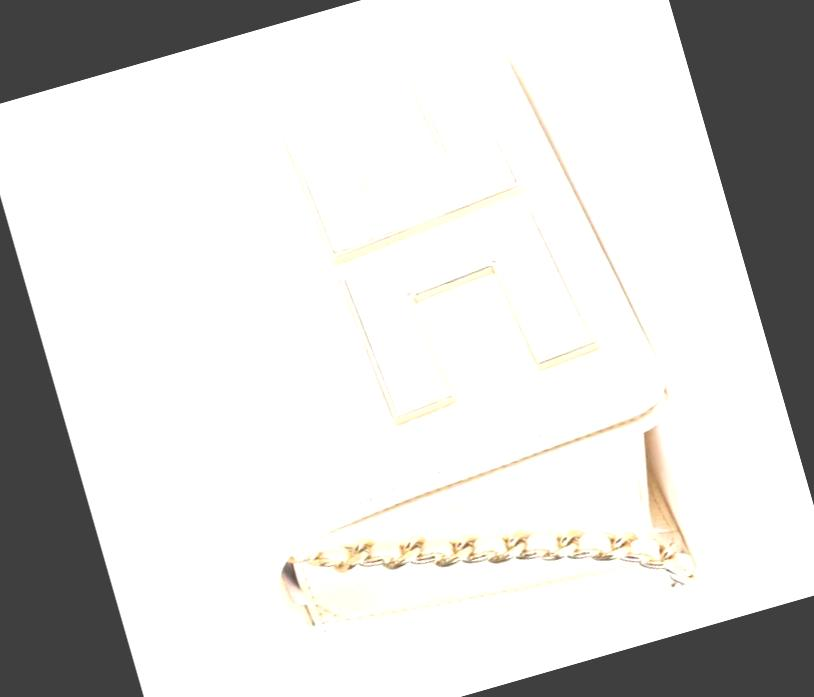ELISABETTA-FRANCHI: (272, 31, 613, 450)
